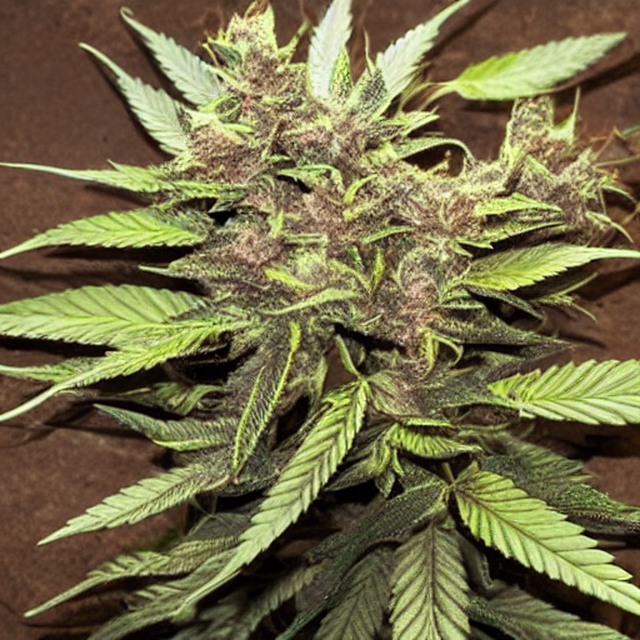Marijuana Plant: (0, 0, 640, 527)
